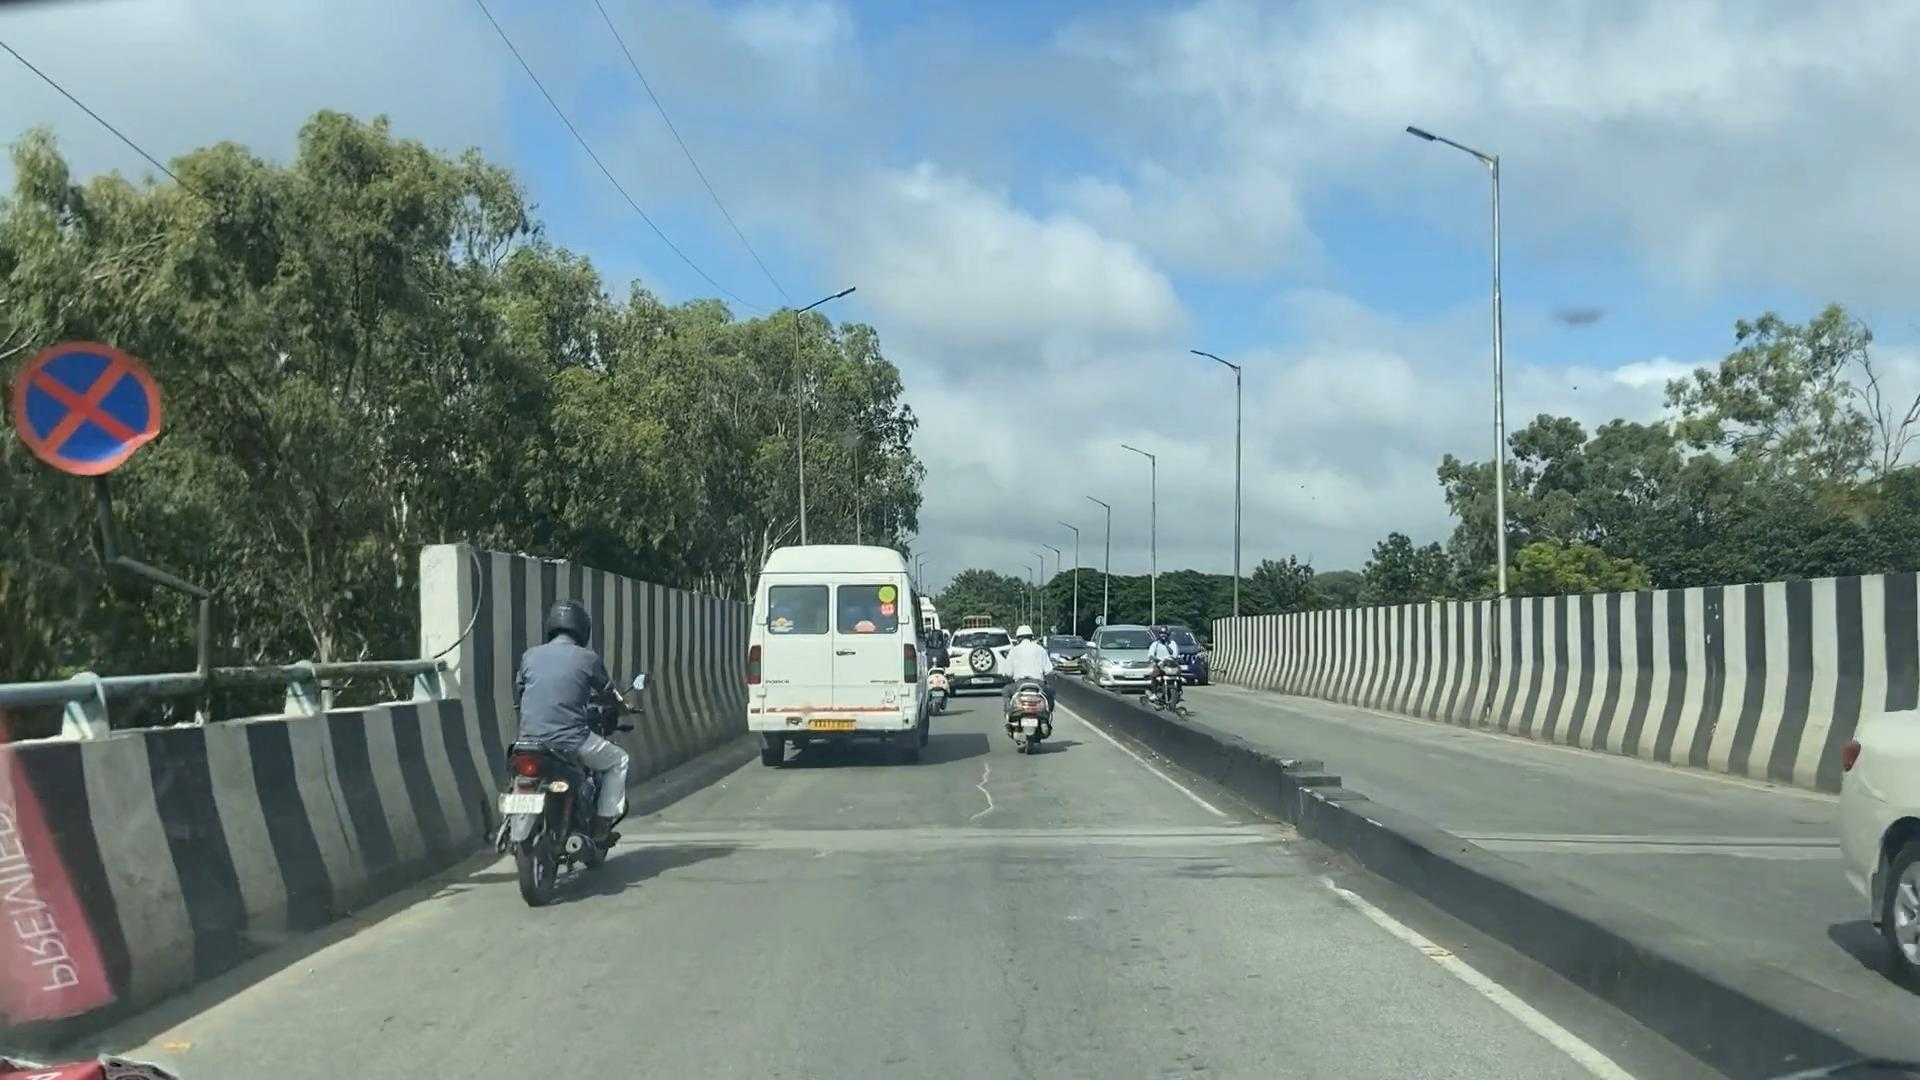HMV: (744, 551, 932, 770)
LMV: (502, 597, 629, 903), (1005, 629, 1051, 757)
RoadDamages: (965, 750, 996, 820)
SpeedBump: (670, 824, 1262, 852)
